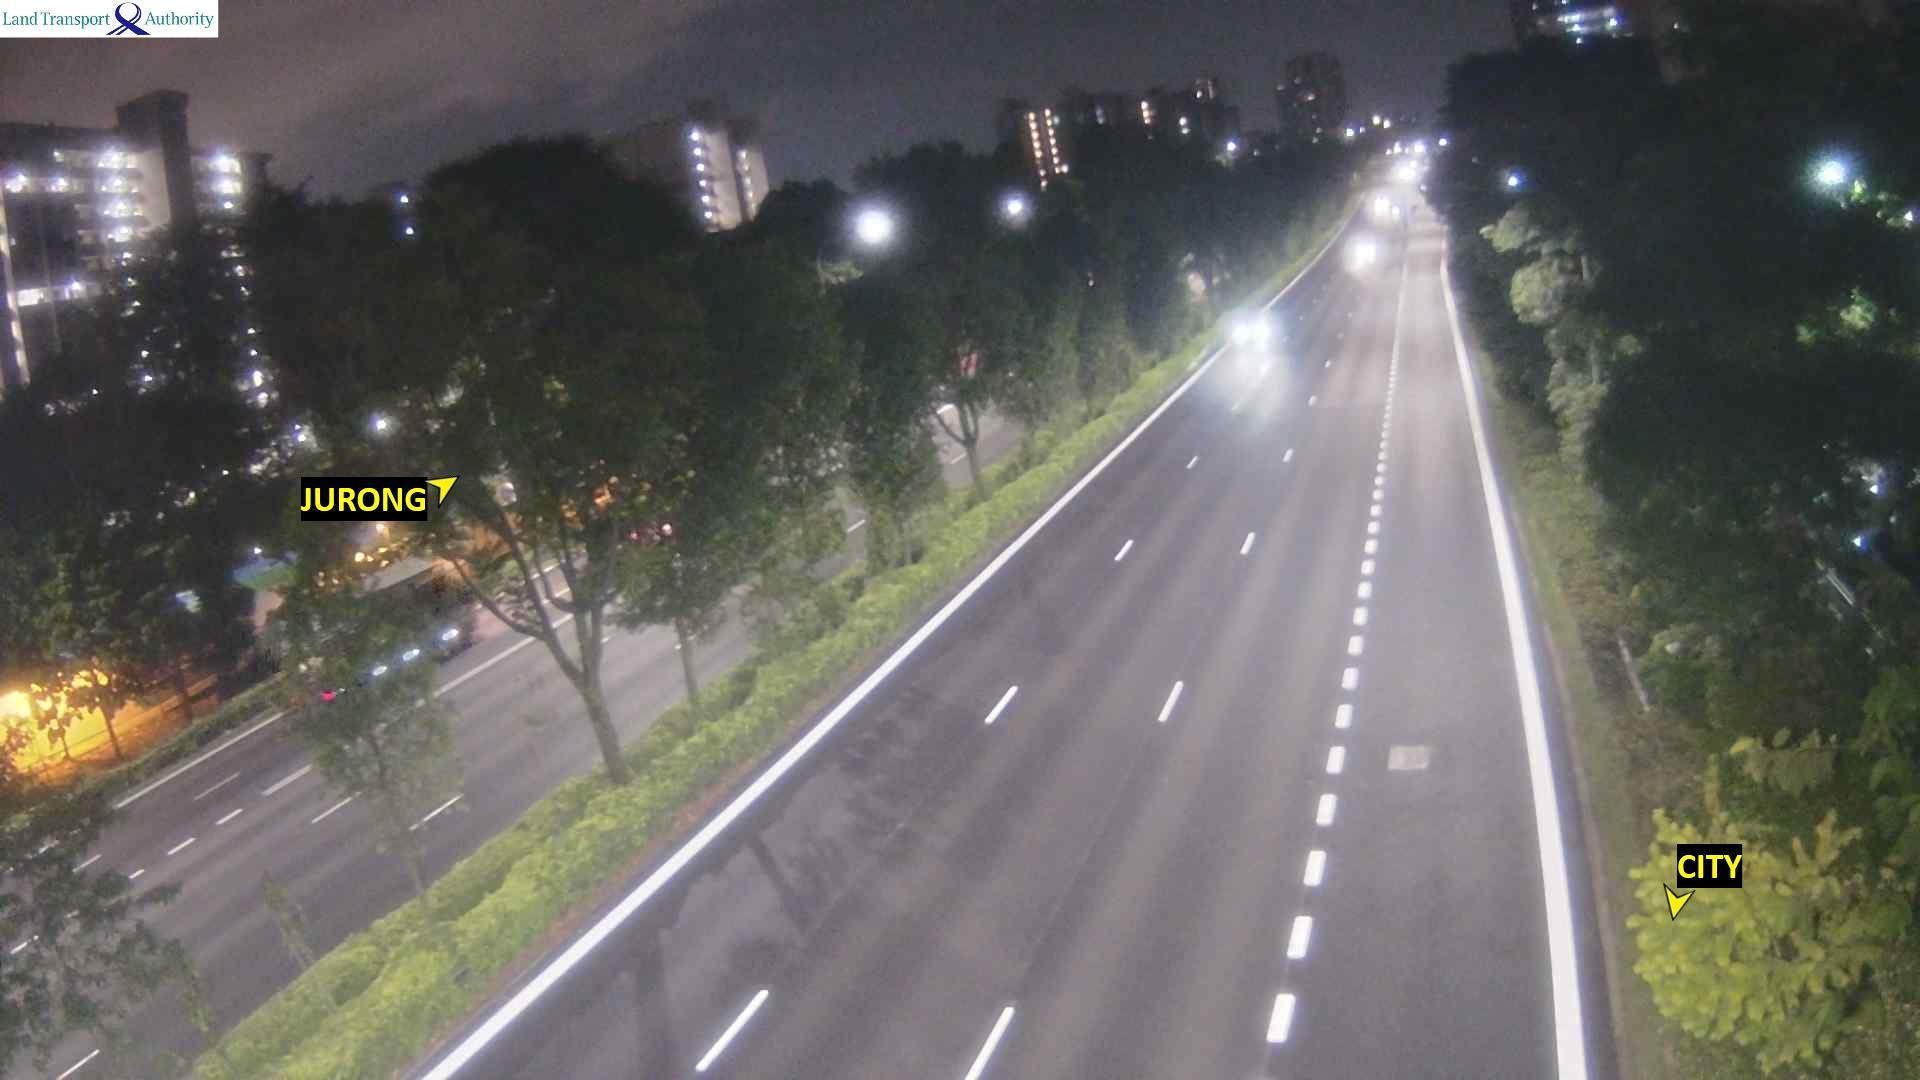cars: (1228, 305, 1276, 352), (1342, 231, 1379, 274), (1365, 189, 1403, 229), (1393, 154, 1424, 183)
trucks: (266, 556, 492, 674)
